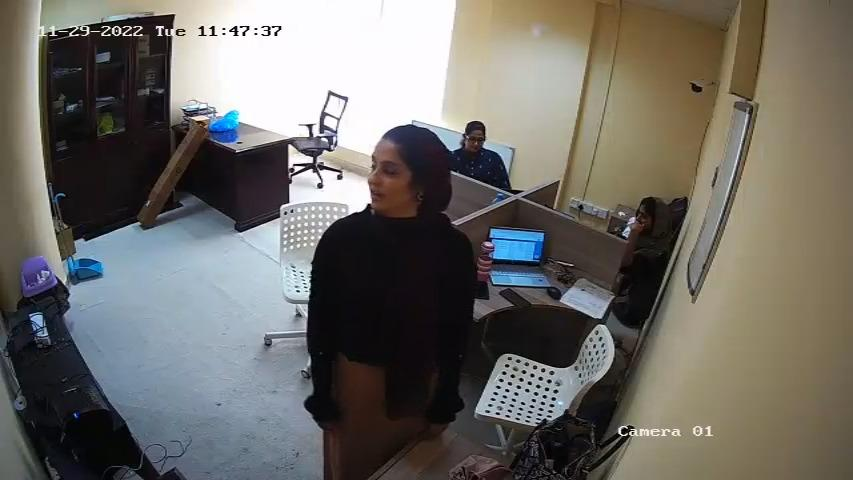no_apron: (339, 224, 447, 391)
